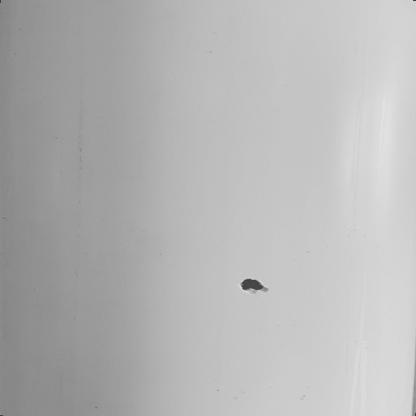kongdong: (236, 269, 272, 296)
